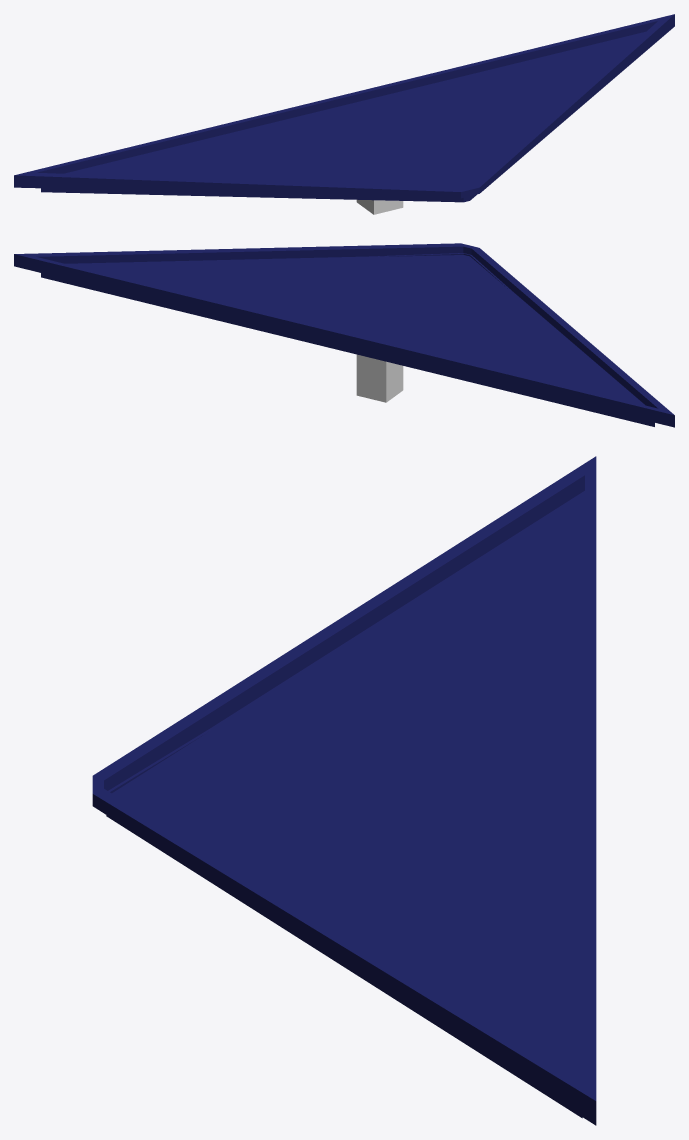
Rendered from WingsKart3.fbx.
The picture shows the model from 3 angles, top to bottom: view 1: azimuth 30°, elevation 25°; view 2: azimuth 150°, elevation 25°; view 3: azimuth 270°, elevation 25°; orthographic projection. The views are drawn at different scales.
Parts seen in each view (by area): view 1: WingsKart3; view 2: WingsKart3; view 3: WingsKart3.
Part boxes in pixels (x1,y1,x2,y2): WingsKart3: (14, 14, 674, 214); WingsKart3: (14, 243, 674, 427); WingsKart3: (92, 456, 596, 1125).
Bounding box in the file's own units: 711 × 86.59 × 234.
